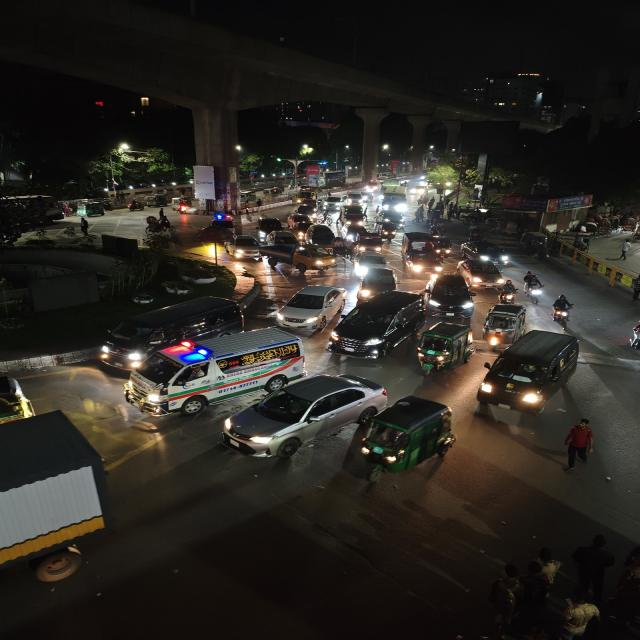bus: (379, 180, 410, 217)
car: (117, 328, 307, 418), (219, 371, 386, 462), (97, 294, 245, 368), (477, 327, 583, 417), (327, 289, 426, 361), (272, 283, 348, 329), (426, 273, 476, 317), (402, 233, 448, 277), (457, 258, 506, 289), (354, 267, 398, 299), (460, 239, 511, 265), (349, 250, 394, 278), (221, 234, 262, 260), (350, 228, 389, 254), (306, 224, 338, 252), (266, 230, 301, 247), (341, 205, 368, 227)
cng: (354, 394, 459, 476), (414, 321, 474, 375), (481, 303, 527, 347), (435, 237, 454, 259), (379, 220, 397, 243)
motorcycle: (522, 270, 547, 306), (550, 293, 574, 325), (498, 280, 520, 304), (176, 199, 192, 215)
pedestrian: (570, 531, 616, 610), (559, 416, 598, 472), (628, 272, 640, 301), (548, 237, 563, 258), (570, 244, 582, 266), (618, 241, 631, 261)
pickup_van: (259, 243, 334, 277)
rickshaw: (141, 214, 179, 237), (254, 216, 285, 238)
truck: (0, 398, 117, 594)
